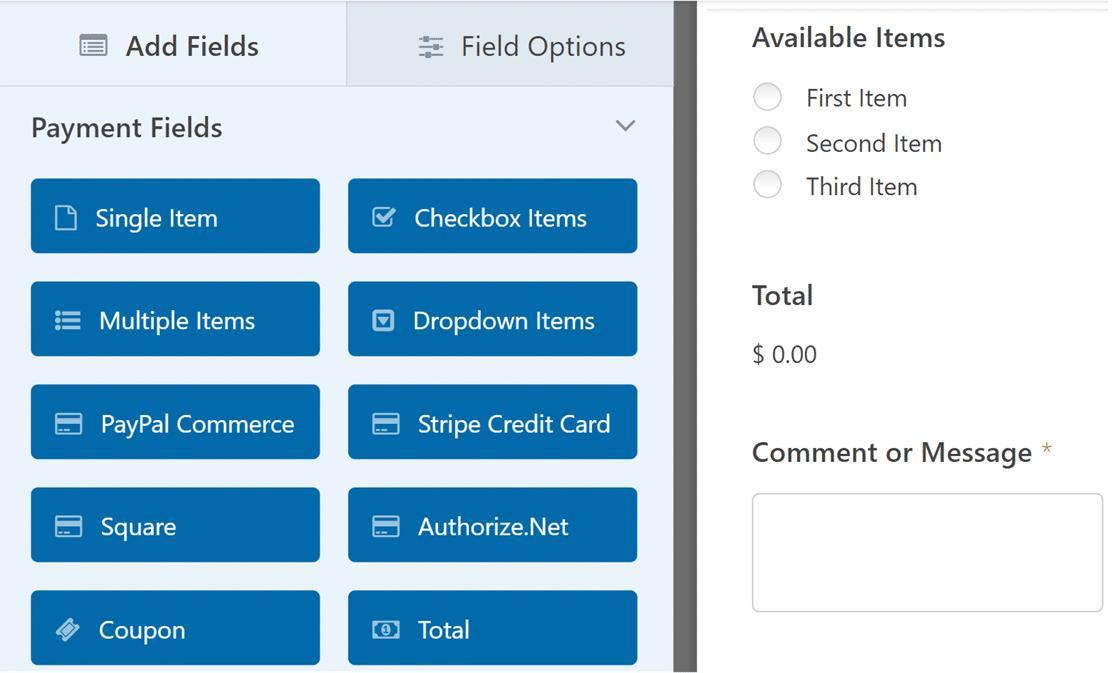button: (3, 1, 348, 86), (348, 3, 675, 87), (33, 178, 321, 255), (350, 383, 639, 459), (349, 488, 637, 563), (32, 589, 319, 664), (348, 180, 638, 254), (351, 283, 637, 358), (32, 386, 321, 460), (32, 283, 323, 356), (348, 591, 637, 664), (33, 489, 320, 562)
checkbox: (754, 124, 787, 157), (754, 83, 785, 117), (753, 171, 785, 203)
label: (24, 108, 231, 150), (753, 441, 1036, 469), (747, 23, 961, 56), (802, 129, 950, 160), (801, 82, 917, 119), (801, 175, 926, 206), (747, 277, 818, 316), (753, 340, 825, 372)
